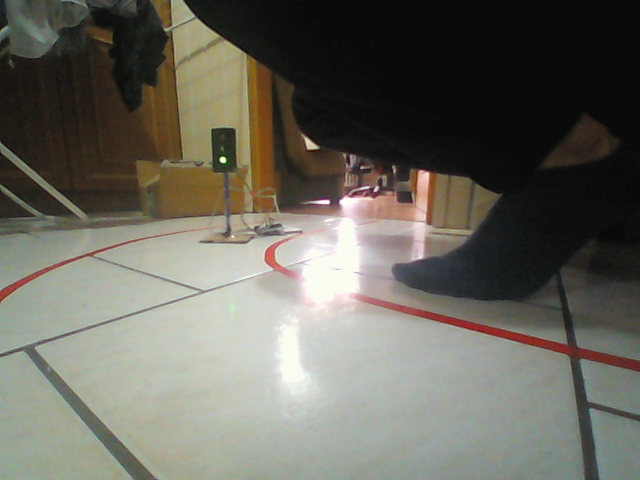green_sign: (211, 127, 238, 174)
